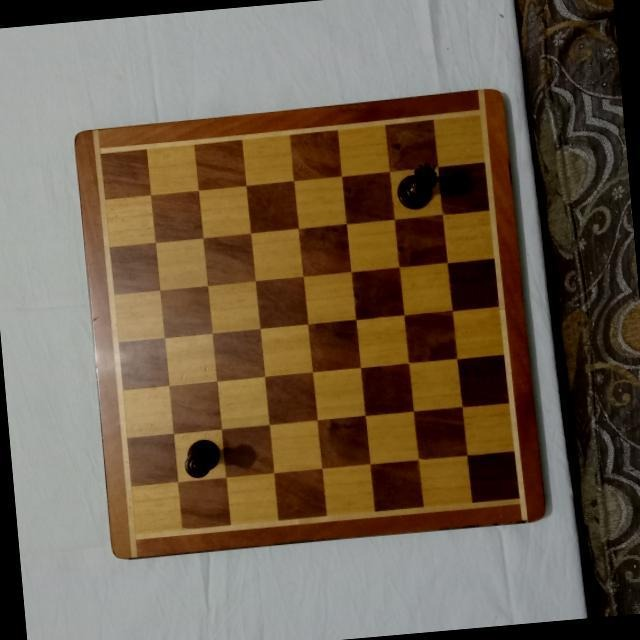black-king: (181, 435, 223, 476)
black-queen: (391, 159, 441, 211)
